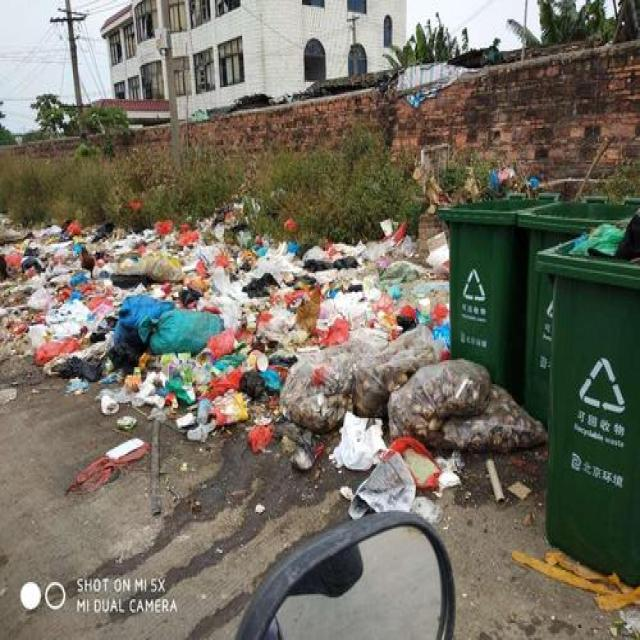garbage: (0, 200, 547, 517)
garbage_bin: (435, 190, 556, 360)
overflow: (532, 207, 638, 587)
